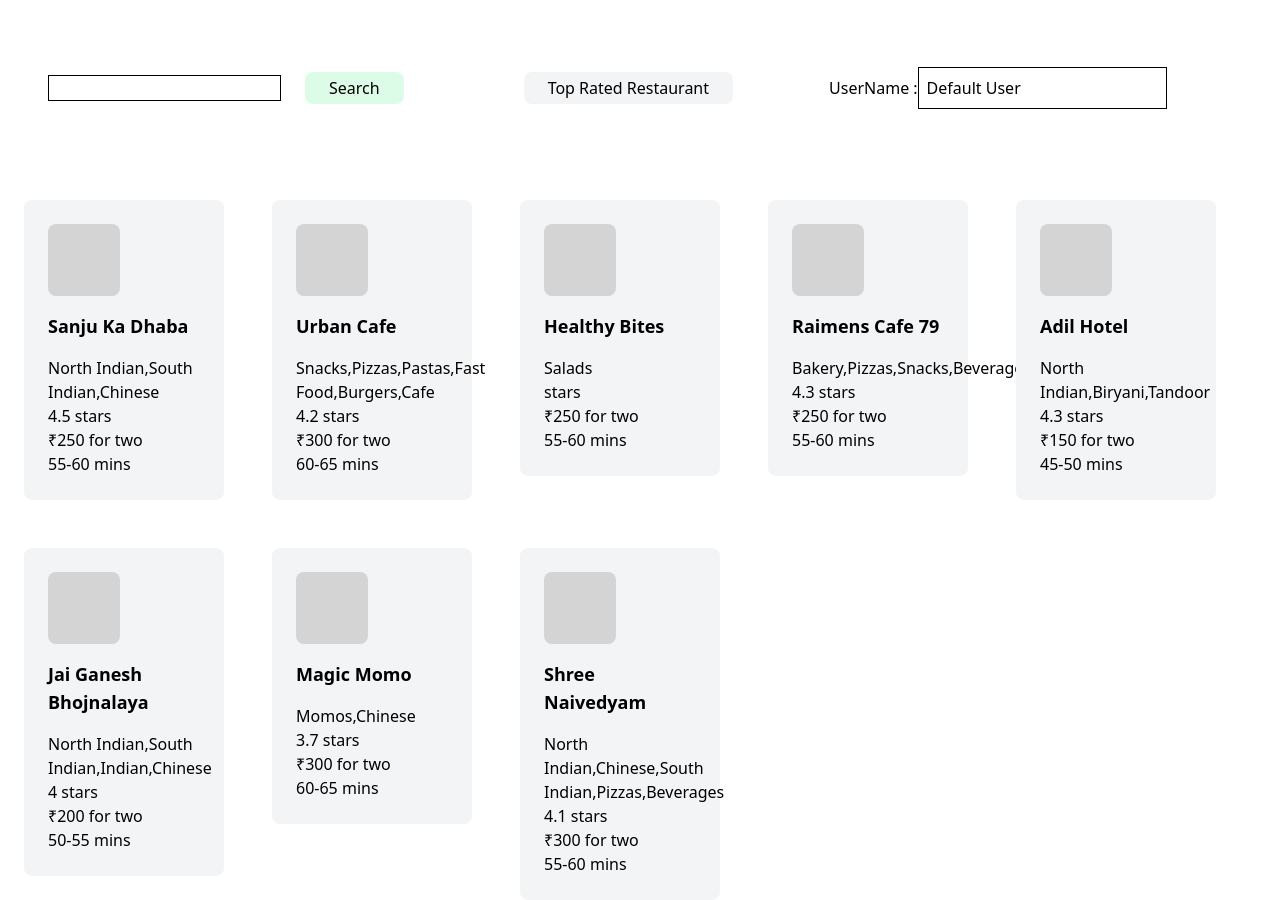
Scenario: Should search top rated restaurants
This screenshot has width=1280, height=900.
Click the button "Top Rated Restaurant" at (628, 88), box [524,72,733,104]
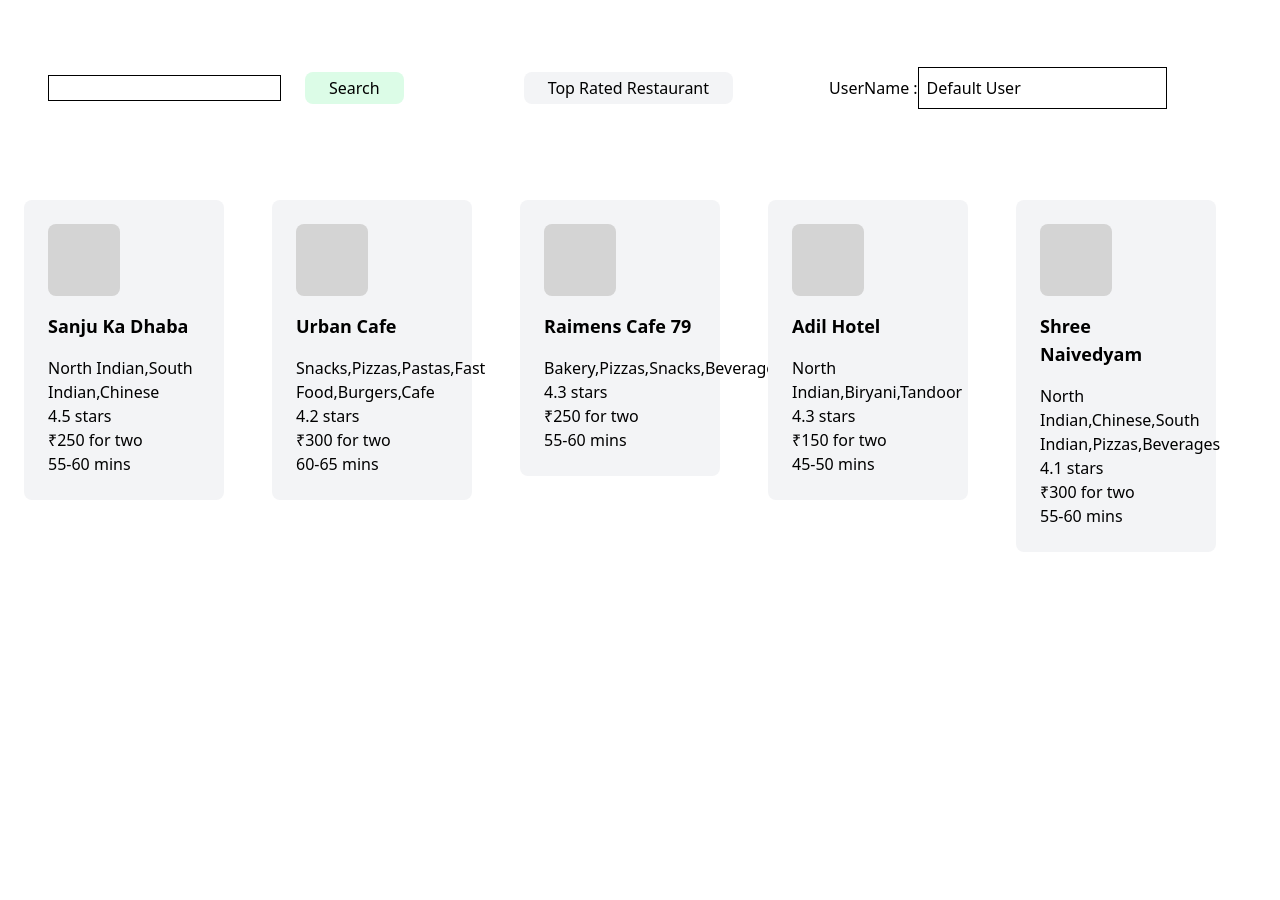
Result: the number of elements with test id "resCard" is 5 at [24,200,224,500]; [272,200,472,500]; [520,200,720,476]; [768,200,968,500]; [1016,200,1216,552]
